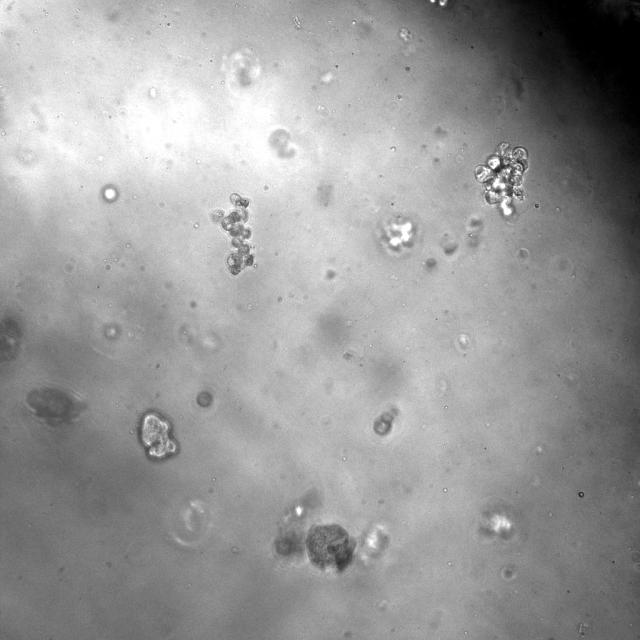organoid: (474, 142, 529, 217), (208, 194, 254, 274), (26, 386, 86, 425), (306, 524, 355, 570), (139, 411, 178, 460), (378, 214, 417, 254), (0, 318, 21, 362), (374, 406, 398, 436), (196, 390, 213, 408)
